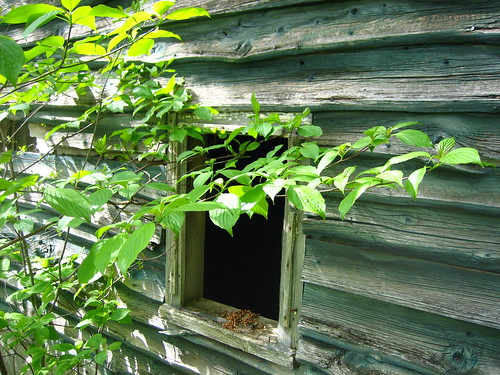vegetation: (1, 1, 172, 370)
window: (179, 119, 295, 348)
